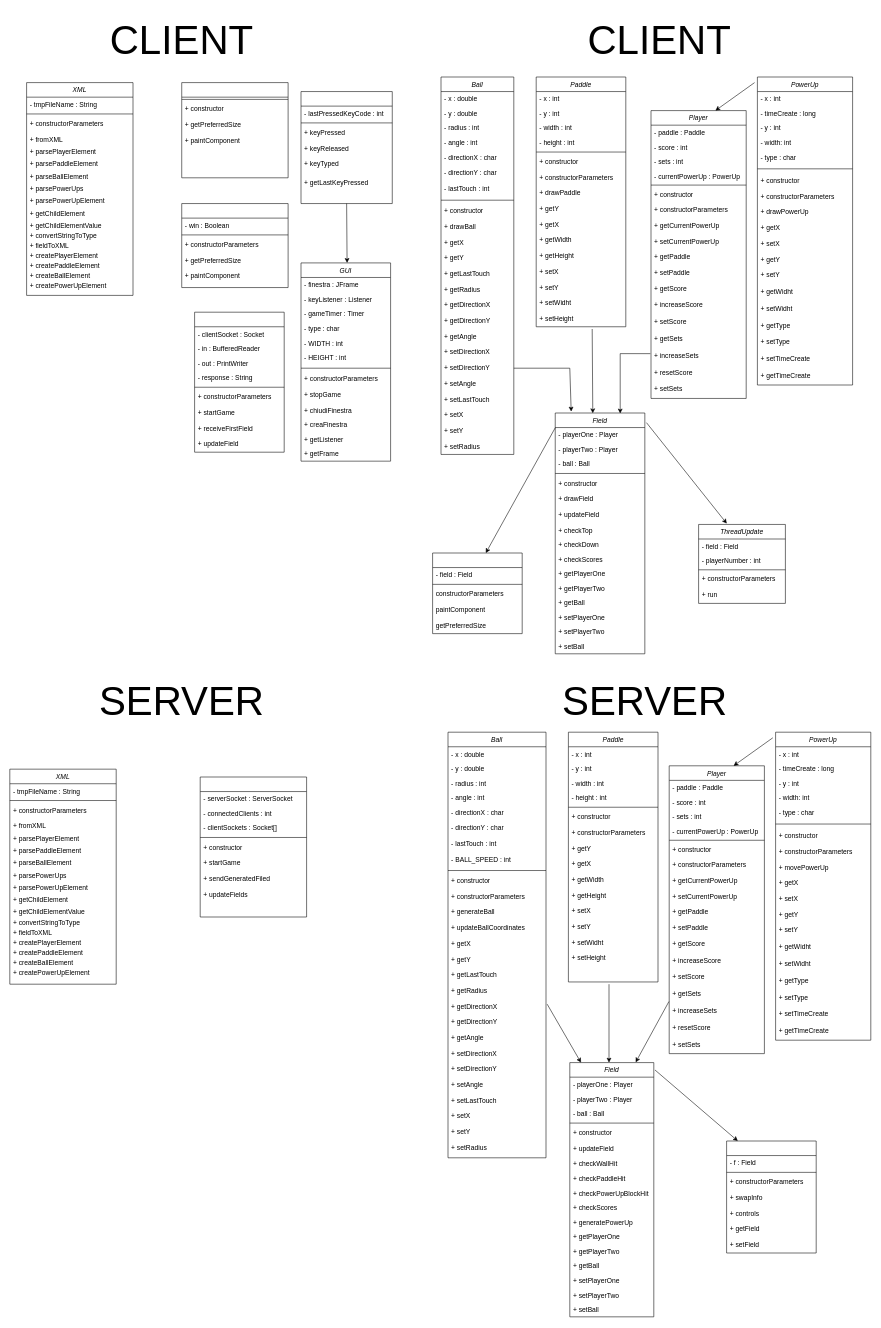
Image size: 881x1328. Some labels were removed from this diagram. Here are the shapes that lost their labels. From the top down, the box of each, then its label:
(181, 82, 288, 178): LoadingPanel
(300, 91, 392, 204): Listener
(181, 203, 288, 288): EndingPannel
(194, 312, 284, 452): TcpClient
(432, 552, 522, 634): GamePanel
(200, 776, 307, 917): TcpServer
(726, 1140, 816, 1253): FieldUpdater
